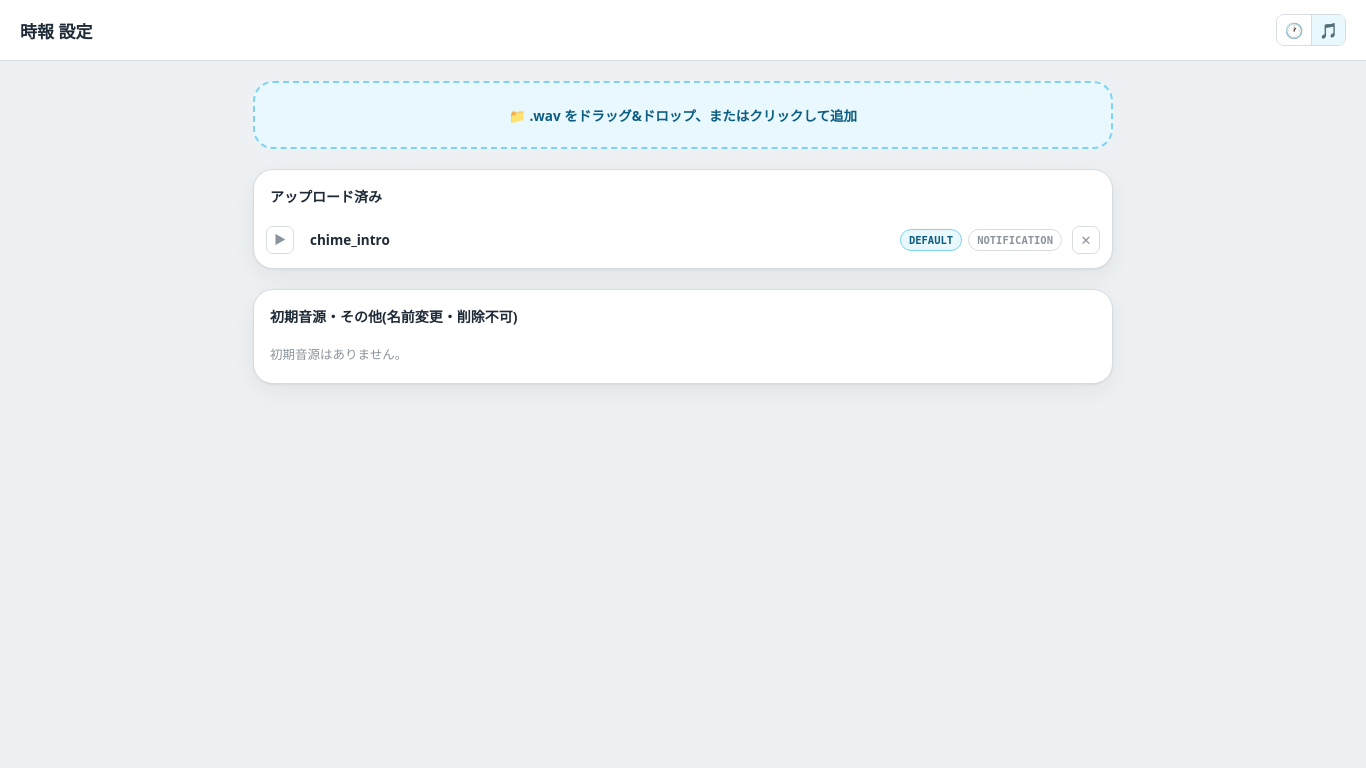
Scenario: 楽曲管理画面 › 音声タイプの切り替えに失敗すると ErrorDialog を表示し、切り替わらない
This screenshot has width=1366, height=768.
Expected: the button "chime_intro" is shown, [304,227,890,253]
What coordinates should you click on to do the following:
click the button with aria-label "chime_intro NOTIFICATION"
I would click on:
 (1015, 240)
Its box is [968,229,1062,251].
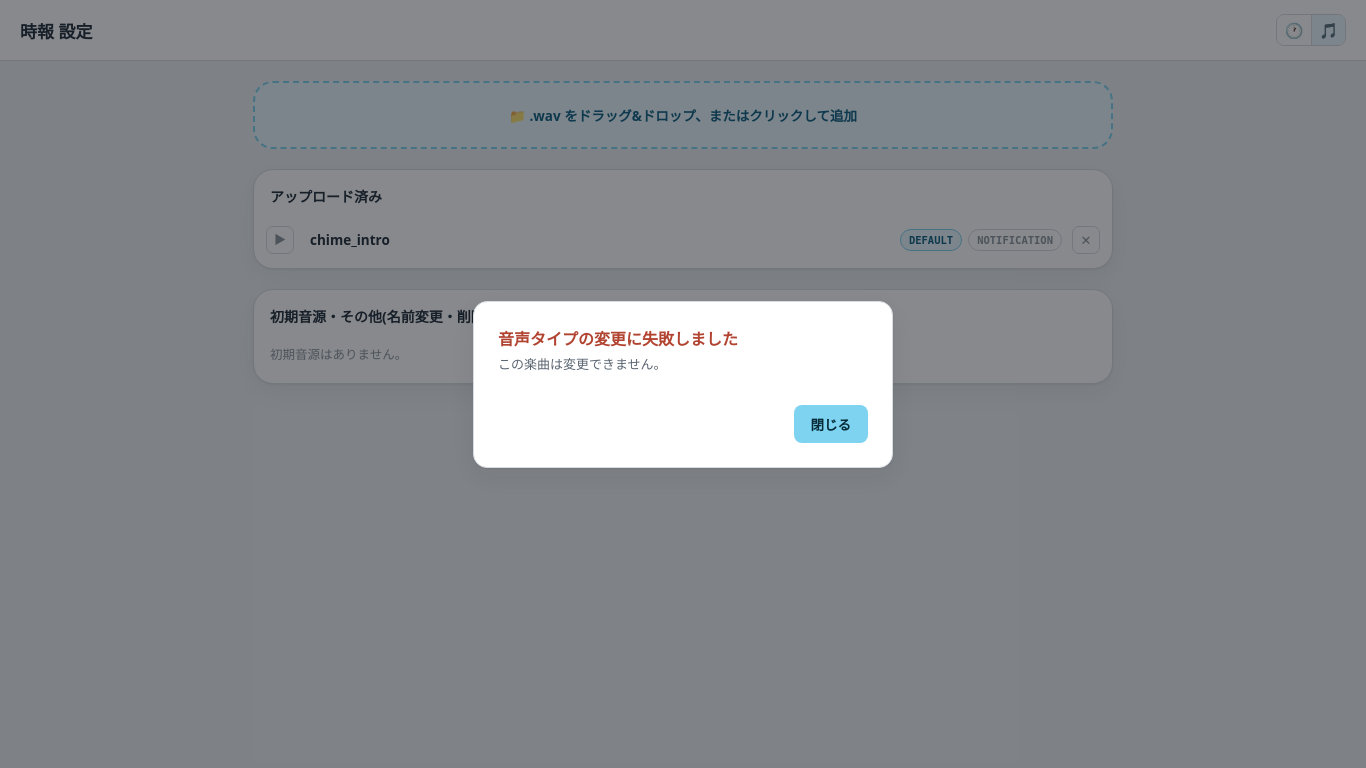
Expected: the heading "音声タイプの変更に失敗しました" is shown, [498,328,738,350]
